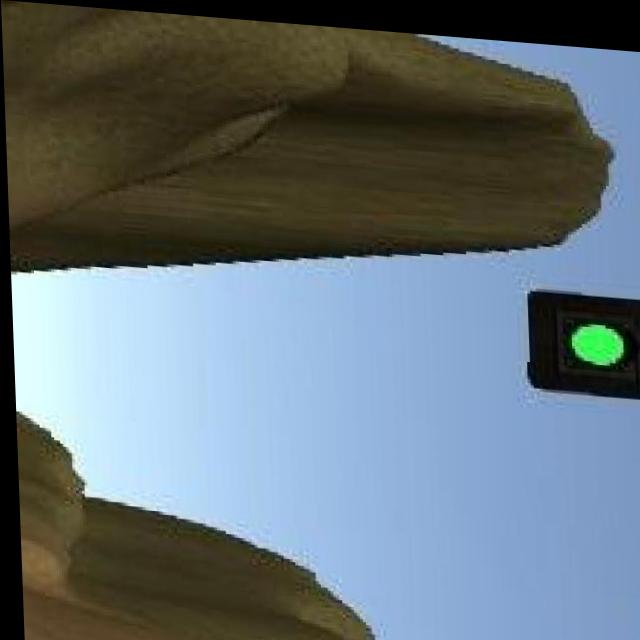green light: (524, 282, 640, 387)
